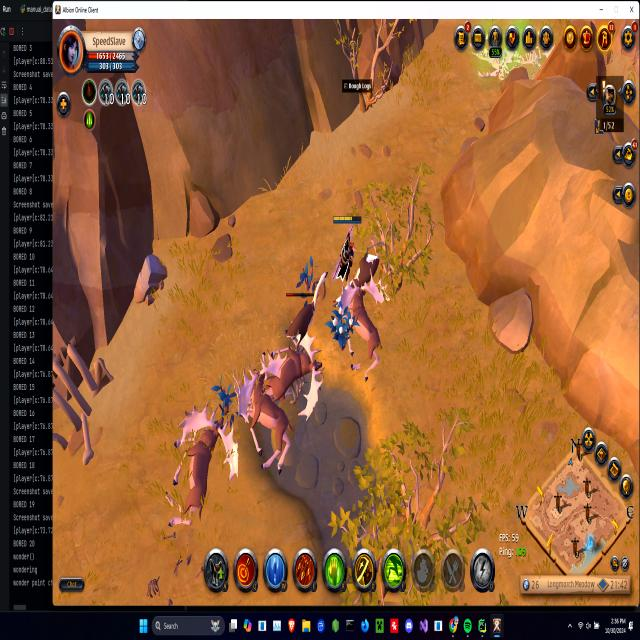hide: (327, 295, 356, 352)
mob: (164, 402, 241, 535), (234, 354, 296, 479), (262, 327, 325, 420), (338, 275, 384, 377), (352, 243, 381, 289)
ore: (284, 267, 329, 347)
red: (332, 212, 362, 285)
